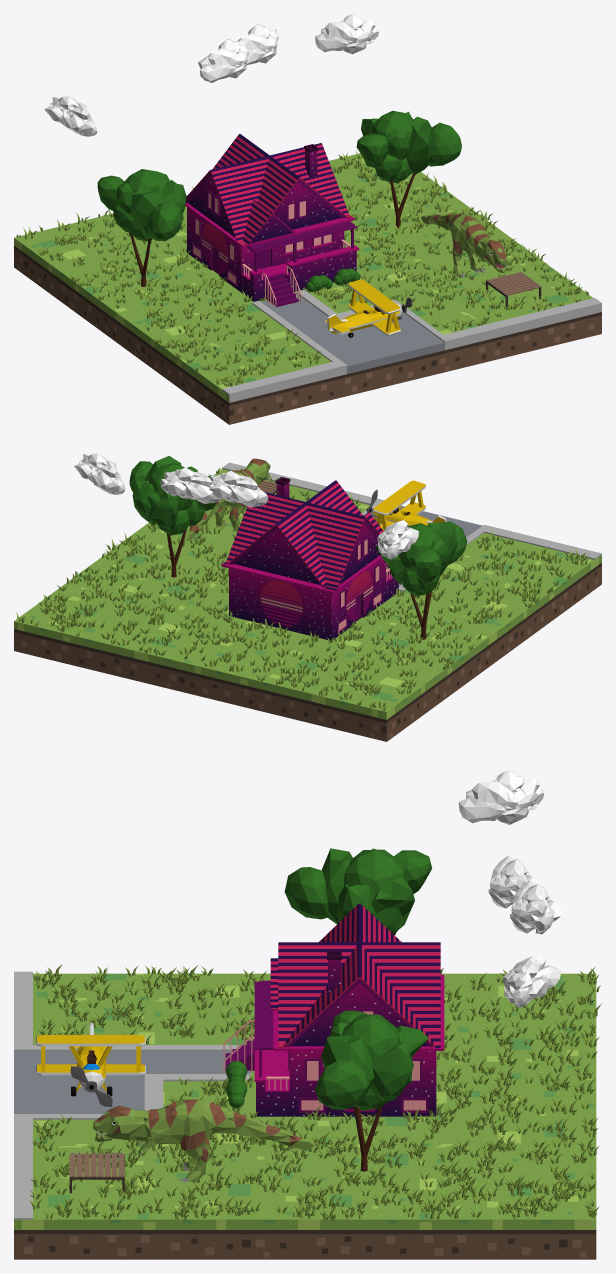
The picture shows the model from 3 angles, top to bottom: view 1: azimuth 30°, elevation 25°; view 2: azimuth 150°, elevation 25°; view 3: azimuth 270°, elevation 25°; orthographic projection. The views are drawn at different scales.
Visible parts, largest first — view 1: Cube.006, Cube.156, Circle.012_Grass_0.192, Cube.007, tree, tree.001, ANIMAL_TREX, VEHICLES_AIRPLANE, Cube.009; view 2: Cube.006, Cube.156, Circle.012_Grass_0.192, Cube.007, tree.001, tree, VEHICLES_AIRPLANE, ANIMAL_TREX; view 3: Cube.006, Circle.012_Grass_0.192, Cube.156, tree, Cube.007, tree.001, ANIMAL_TREX, VEHICLES_AIRPLANE, Cube.009.
Boxes of the visible parts, bbox=[...] form: Cube.006: bbox=[14, 153, 601, 424]; Cube.156: bbox=[185, 134, 359, 308]; Circle.012_Grass_0.192: bbox=[16, 150, 588, 386]; Cube.007: bbox=[44, 14, 378, 136]; tree: bbox=[356, 110, 461, 228]; tree.001: bbox=[97, 169, 186, 286]; ANIMAL_TREX: bbox=[421, 213, 507, 277]; VEHICLES_AIRPLANE: bbox=[325, 279, 412, 337]; Cube.009: bbox=[486, 272, 541, 306]; Cube.006: bbox=[14, 462, 601, 741]; Cube.156: bbox=[221, 477, 398, 640]; Circle.012_Grass_0.192: bbox=[16, 468, 588, 711]; Cube.007: bbox=[74, 453, 418, 559]; tree.001: bbox=[375, 521, 467, 639]; tree: bbox=[129, 456, 216, 577]; VEHICLES_AIRPLANE: bbox=[366, 480, 447, 530]; ANIMAL_TREX: bbox=[184, 458, 270, 540]; Cube.006: bbox=[14, 971, 596, 1259]; Circle.012_Grass_0.192: bbox=[29, 964, 601, 1220]; Cube.156: bbox=[223, 903, 444, 1116]; tree: bbox=[315, 1010, 428, 1171]; Cube.007: bbox=[458, 770, 561, 1007]; tree.001: bbox=[284, 848, 432, 935]; ANIMAL_TREX: bbox=[93, 1099, 315, 1182]; VEHICLES_AIRPLANE: bbox=[36, 1023, 145, 1106]; Cube.009: bbox=[69, 1153, 124, 1193].
Bounding box in the file's own units: 4071 × 2179 × 4040.
35 materials, 5 textured.
